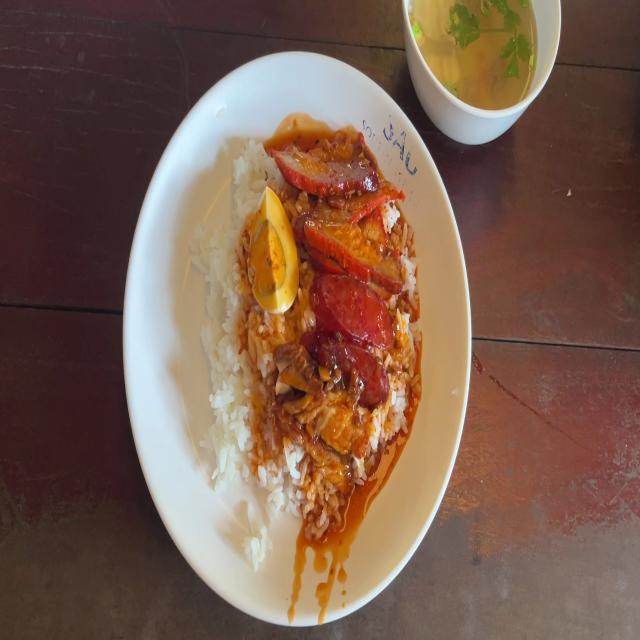01boiled_egg: (249, 193, 291, 313)
01chainese_sausage: (314, 277, 395, 394), (319, 272, 401, 343), (311, 334, 390, 399)
01crispy_pork: (277, 390, 367, 490), (288, 428, 347, 482), (296, 390, 360, 434)
01red_pork: (289, 146, 404, 284), (308, 213, 398, 277), (286, 147, 376, 192), (303, 186, 398, 211)
01red_pork_and_crispy_pork: (200, 136, 411, 518)
01rice: (206, 197, 247, 514), (251, 316, 281, 524), (228, 142, 282, 205)
